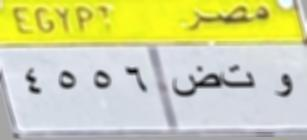4: (22, 57, 46, 102)
5: (52, 64, 84, 100), (91, 65, 115, 98)
6: (123, 63, 154, 95)
daad: (174, 62, 219, 105)
taa: (221, 60, 259, 91)
waw: (269, 72, 299, 106)
